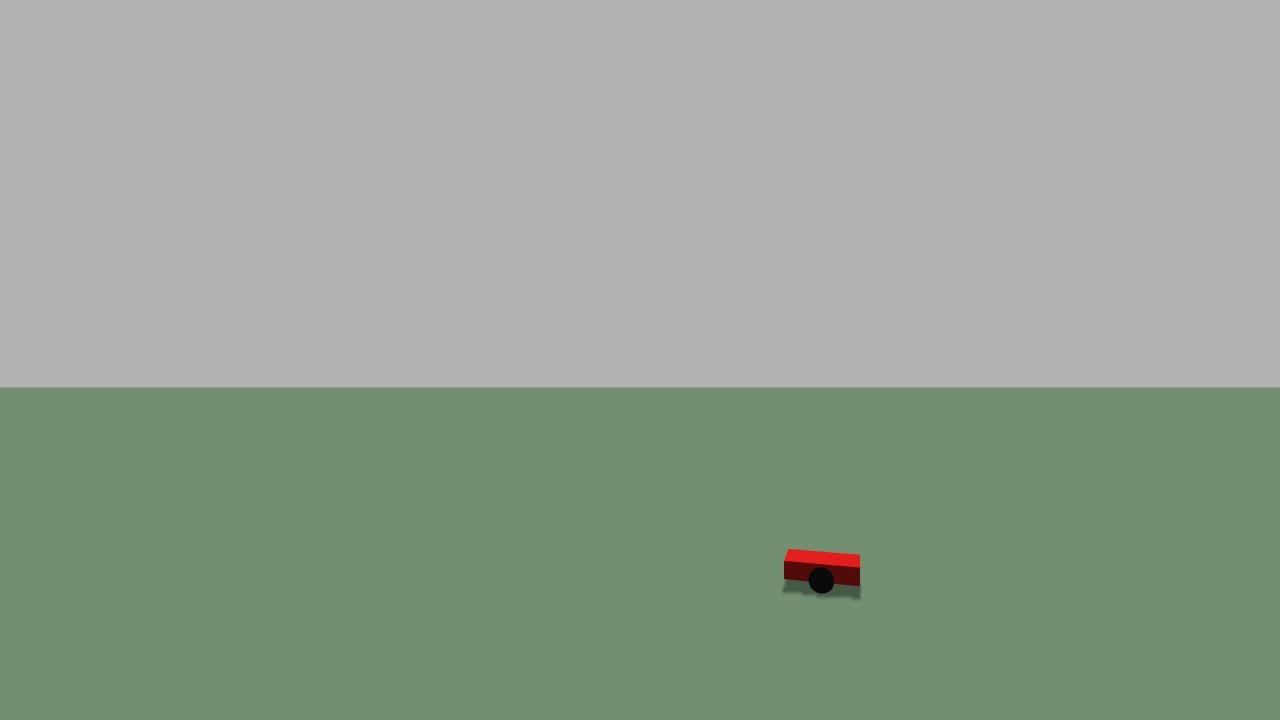ground_vehicle: (767, 524, 872, 615)
